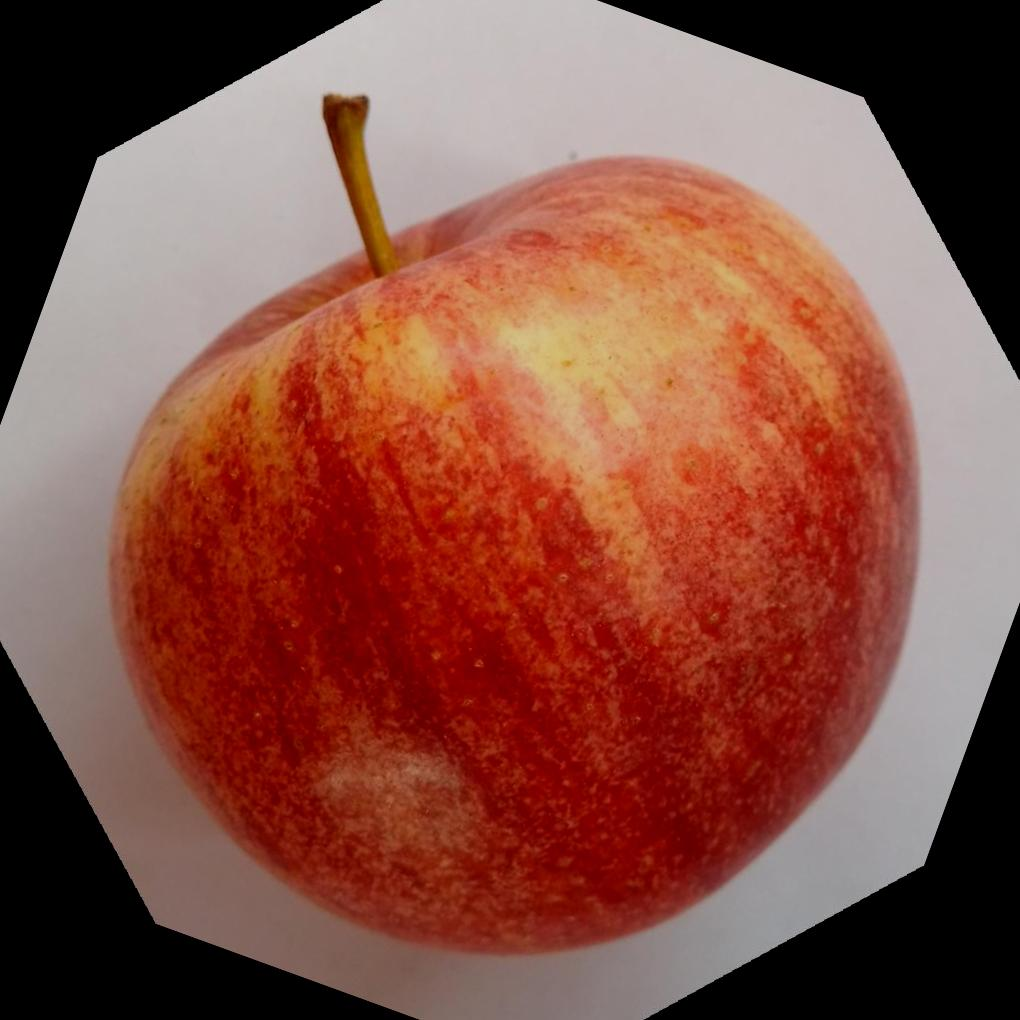FreshGuava: (106, 149, 923, 955)
